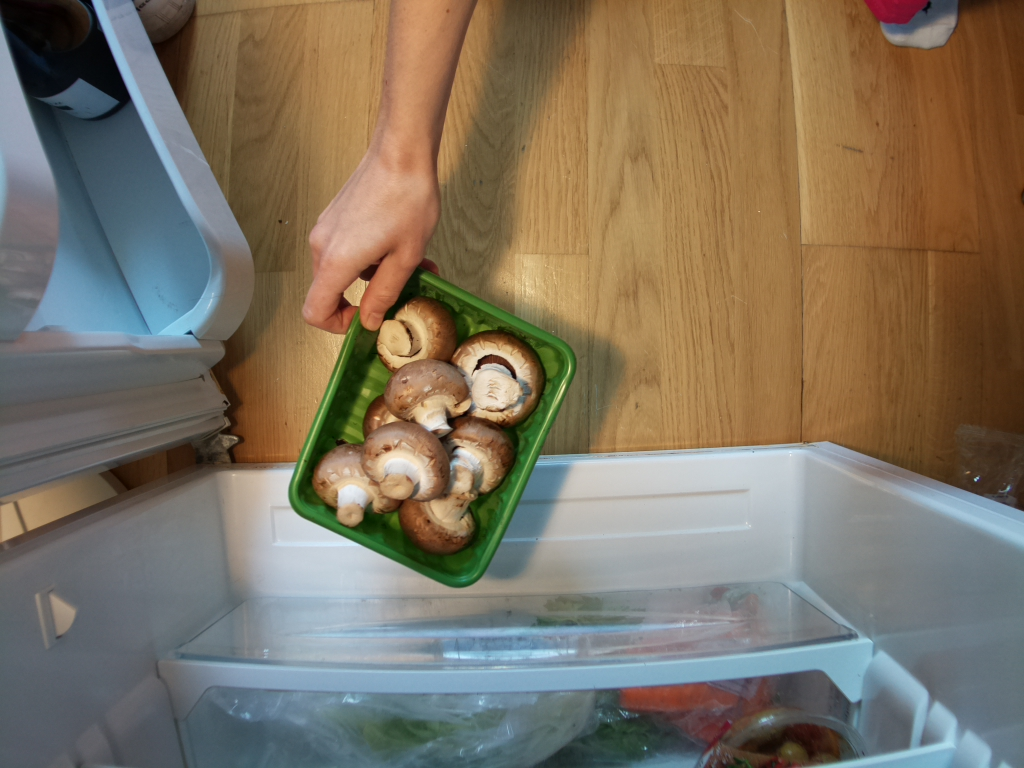mushrooms: (285, 258, 578, 595)
